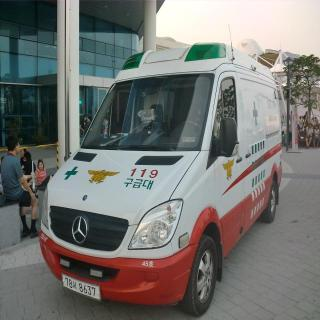Ambulance: (22, 29, 304, 318)
